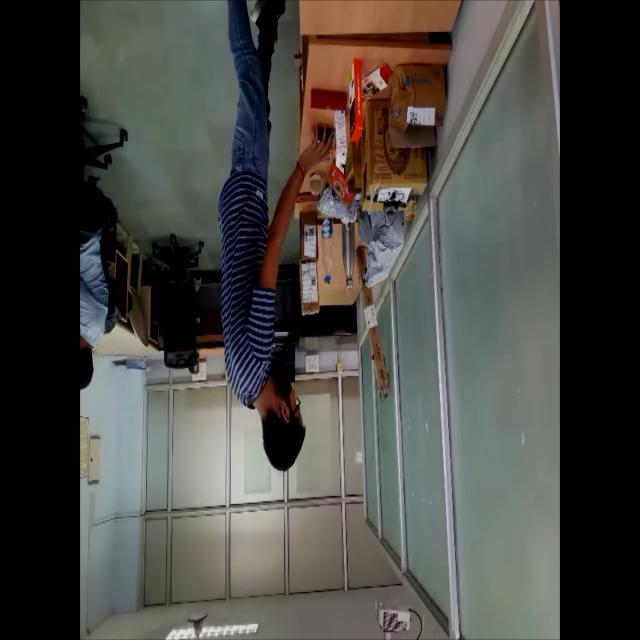normal: (210, 2, 336, 475)
